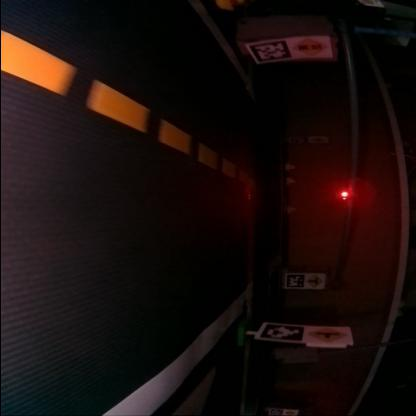Intersection sign: (311, 326, 349, 342), (307, 274, 323, 288)
QR code: (248, 38, 290, 62), (258, 323, 305, 342), (285, 273, 304, 288)
Signal sign: (291, 37, 329, 57)
Traffic light: (338, 190, 354, 198)
